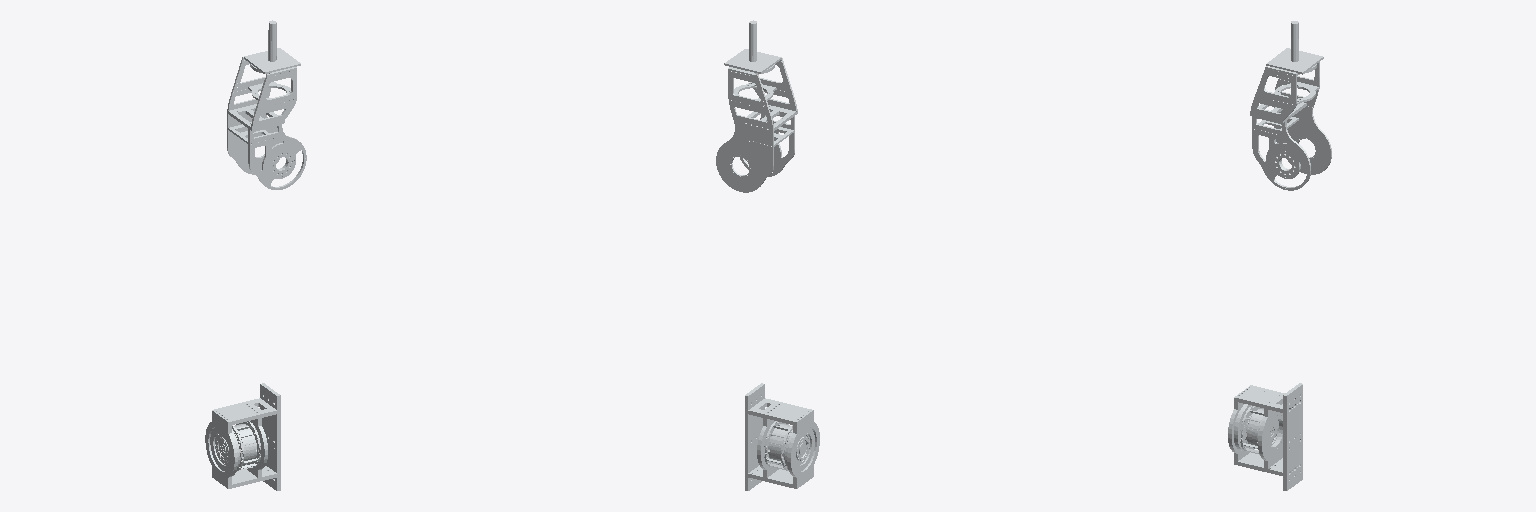
robot.urdf — lab_3dof:
<?xml version="1.0" encoding="utf-8"?>

<robot name="lab_3dof">
  <link name="world">
  </link>
  
  <joint name="world_joint" type="fixed">
    <origin rpy="-1.57079632679 0 1.57079632679" xyz="0 0 0"/>
    <parent link="world"/>
    <child link="base_link"/>
  </joint>


  <link name="base_link">
    <inertial>
      <origin
        xyz="-0.000347374556858653 0.000101207333103757 0.0782524999724863"
        rpy="0 0 0" />
      <mass value="2.98839561693589" />
      <inertia
        ixx="0.00324149543224931"
        ixy="-4.07123251803895E-09"
        ixz="4.73978893588437E-08"
        iyy="0.00585723413730456"
        iyz="-3.99503167878619E-07"
        izz="0.00739428664676083" />
    </inertial>
    <visual>   
      <origin
        xyz="0 0 0"
        rpy="0 0 0" />
      <geometry>
        <mesh filename="../meshes/base_link.STL" />
      </geometry>
      <material name="">
        <color rgba="0.898039215686275 0.917647058823529 0.929411764705882 1" />
      </material>
    </visual>
    <collision>
      <origin rpy="0 0 0" xyz="0 0 0"/>
      <geometry>
        <mesh filename="../meshes/base_link.obj"/>
      </geometry>
    </collision>     
  </link>

  <joint name="joint_1" type="revolute">
    <origin
      xyz="0 -0.136 0"
      rpy="1.5708 0 0" />
    <parent link="base_link" />
    <child link="link_1" />
    <axis xyz="0 0 1" />
  </joint>

  <link name="link_1">
    <inertial>
      <origin
        xyz="-0.00172366119668646 -2.55495447260452E-05 0.133968827840848"
        rpy="0 0 0" />
      <mass value="3.30744593008765" />
      <inertia
        ixx="0.00878765650292233"
        ixy="1.80427804879653E-06"
        ixz="2.13548495365278E-06"
        iyy="0.00572714704438864"
        iyz="-1.85409063938055E-06"
        izz="0.00424667264191884" />
    </inertial>
    <visual>  
      <origin
        xyz="0 0 0"
        rpy="0 0 0" />
      <geometry>
        <mesh filename="../meshes/link_1.STL" />
      </geometry>
      <material name="">
        <color rgba="0.898039215686275 0.917647058823529 0.929411764705882 1" />
      </material>
    </visual>
    <collision>
      <origin rpy="0 0 0" xyz="0 0 0"/>
      <geometry>
        <mesh filename="../meshes/link_1.obj"/>
      </geometry>
    </collision>      
  </link>
  
  <joint name="joint_2" type="revolute">
    <origin
      xyz="0 0 0.149"
      rpy="0 0 0" />
    <parent link="link_1" />
    <child link="link_2" />
    <axis xyz="1 0 0" />
  </joint>

  <link name="link_2">
    <inertial>
      <origin
        xyz="0.00626355053015673 0.0195692760743029 0.281532477415334"
        rpy="0 0 0" />
      <mass value="3.97301905127661" />
      <inertia
        ixx="0.0206571545145336"
        ixy="5.34178175255945E-07"
        ixz="3.18137551591275E-05"
        iyy="0.0170287884707626"
        iyz="0.00114099862594573"
        izz="0.00524723480624551" />
    </inertial>
    <visual>    
      <origin
        xyz="0 0 0"
        rpy="0 0 0" />
      <geometry>
        <mesh filename="../meshes/link_2.STL" />
      </geometry>
      <material name="">
        <color rgba="0.898039215686275 0.917647058823529 0.929411764705882 1" />
      </material>
    </visual>
    <collision>
      <origin rpy="0 0 0" xyz="0 0 0"/>
      <geometry>
        <mesh filename="../meshes/link_2.obj"/>
      </geometry>
    </collision>    
  </link>
  
  <joint name="joint_3" type="revolute">
    <origin
      xyz="0 0 0.45"
      rpy="0 0 0" />
    <parent link="link_2" />
    <child link="link_3" />
    <axis xyz="0.99997 0.0077715 0" />
  </joint>

  <link name="link_3">
    <inertial>
      <origin
        xyz="0.00340514153817608 0.022060386262522 0.091749494288482"
        rpy="0 0 0" />
      <mass value="1.08738146837964" />
      <inertia
        ixx="0.00461209800248674"
        ixy="1.19328883575937E-05"
        ixz="6.53945986716685E-06"
        iyy="0.00365409026116253"
        iyz="-0.000226932068353511"
        izz="0.00178925670898513" />
    </inertial>
    <visual>   
      <origin
        xyz="0 0 0"
        rpy="0 0 0" />
      <geometry>
        <mesh filename="../meshes/link_3.STL" />
      </geometry>
      <material name="">
        <color rgba="0.898039215686275 0.917647058823529 0.929411764705882 1" />
      </material>
    </visual>
    <collision>
      <origin rpy="0 0 0" xyz="0 0 0"/>
      <geometry>
        <mesh filename="../meshes/link_3.obj"/>
      </geometry>
    </collision>     
  </link>
     
  <joint name="joint_ee" type="fixed">
    <parent link="link_3"/>
    <child link="link_ee"/>

    <origin rpy="-1.5707963267949 -0.0161784886231073 0" xyz="0 0 0.249"/>         
    <axis xyz="0 0 1"/>
  </joint>
  
  
  <link name="link_ee">
    <inertial>
      <origin
        xyz="2.82378534434436E-18 -0.0227581511174895 3.82068943351184E-18"
        rpy="0 0 0" />
      <mass
        value="0.0814159265358979" />
      <inertia
        ixx="0.000121913816960056"
        ixy="-4.329016012952E-20"
        ixz="2.01977829715946E-20"
        iyy="8.49041296601283E-05"
        iyz="6.9098351648537E-21"
        izz="0.000121913816960056" />
    </inertial>
    <visual>    
      <origin
        xyz="0 0 0"
        rpy="0 0 0" />
      <geometry>
        <mesh filename="../meshes/link_ee.STL" />
      </geometry>
      <material name="">
        <color rgba="0.898039215686275 0.917647058823529 0.929411764705882 1" />
      </material>
    </visual>
    <collision>
      <origin rpy="0 0 0" xyz="0 0 0"/>
      <geometry>
        <mesh filename="../meshes/link_ee.obj"/>
      </geometry>
    </collision>    
  </link>  
       
  <joint name="joint_ee_tip" type="fixed">
    <parent link="link_ee"/>
    <child link="ee_tip"/>
    <origin rpy="-1.5707963268 3.14159265359 3.14159265359" xyz="0 -0.105 0.0"/>      
    <axis xyz="0 0 1"/>
  </joint>  
       
  <link name="ee_tip">
      <inertial>
      <origin rpy="0 0 0" xyz="0 0 0"/>
      <mass value="0"/>
      <inertia ixx="0.0" ixy="0.0" ixz="0.0" iyy="0.0" iyz="0.0" izz="0.0"/>
    </inertial>  
  </link>
  





  

</robot>

--- Render facts (derived) ---
The picture shows the robot from 3 angles, left to right: view 1: azimuth 30°, elevation 25°; view 2: azimuth 150°, elevation 25°; view 3: azimuth 330°, elevation 25°; orthographic projection.
Robot: lab_3dof — 7 links, 6 joints (3 revolute, 3 fixed); root link world; default pose: all joints at 0.
Visible links, largest first — view 1: link_3, base_link, link_ee; view 2: link_3, base_link, link_ee; view 3: link_3, base_link, link_ee.
Link boxes in pixels (x1,y1,x2,y2): link_3: (227,57,306,189); base_link: (205,383,280,490); link_ee: (244,20,300,73); link_3: (716,55,797,192); base_link: (745,383,819,490); link_ee: (724,20,781,73); link_3: (1250,62,1331,190); base_link: (1228,383,1302,490); link_ee: (1266,21,1323,74).
Bounding box of the posed robot: 0.2118 × 0.1395 × 1.21 m (x, y, z).
Meshes: 5 distinct files referenced, 3 mesh visuals loaded (3 binary STL); not drawn: 2 (reference not matched to a file when rendering).